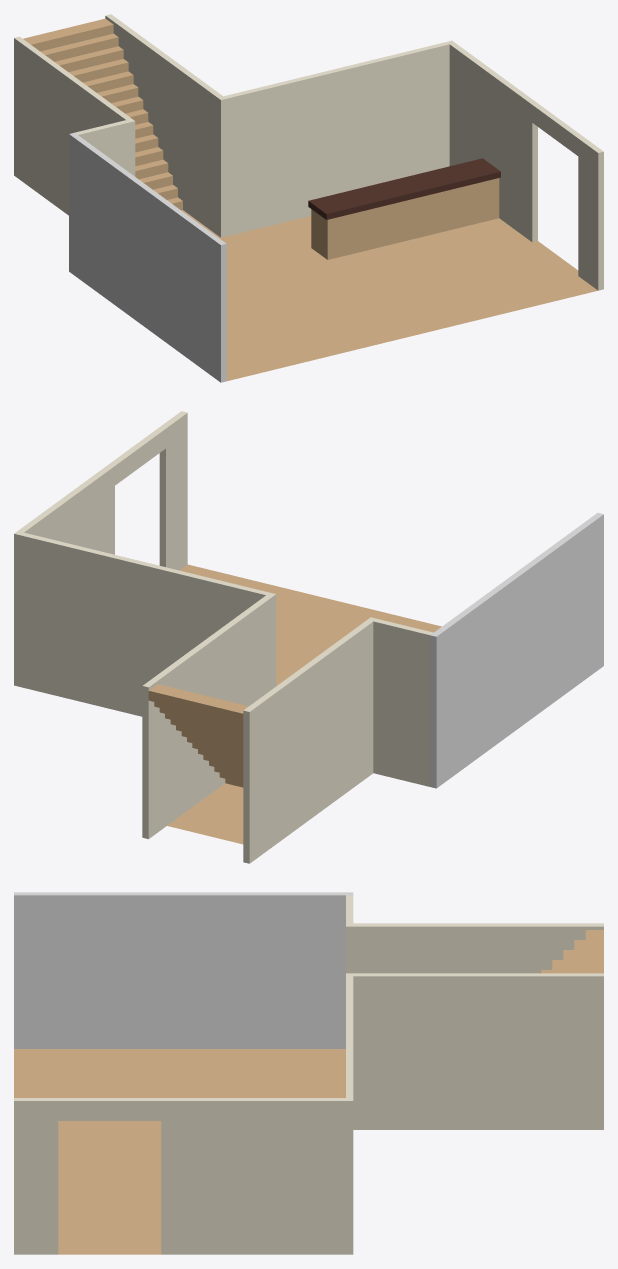
The model's file is reception.glb.
The picture shows the model from 3 angles, top to bottom: view 1: azimuth 30°, elevation 25°; view 2: azimuth 150°, elevation 25°; view 3: azimuth 270°, elevation 25°; orthographic projection. The views are drawn at different scales.
Parts seen in each view (by area): view 1: Plane-col, Cube.001-col, Cube.002-col, Cube.003-col, Cube.006-col, Cube.007-col, Cube-col.001, Cube.0015-col, Cube.004-col, Cube-col, step.014, Cube.005-col (+5 smaller); view 2: Cube.001-col, Cube.002-col, Cube.007-col, Cube.006-col, Cube-col, Plane-col, Cube.003-col, Cube.004-col, Plane.001-col, step.014, Cube.005-col; view 3: Cube.002-col, Cube.006-col, Cube.003-col, Plane-col, Cube.007-col, Cube.004-col, Cube.005-col, Cube.001-col, step.014, Cube-col.
Boxes of the visible parts, x1,y1,x2,y2 form: Plane-col: (219, 216, 597, 381); Cube.001-col: (217, 42, 449, 237); Cube.002-col: (69, 132, 226, 382); Cube.003-col: (447, 40, 537, 242); Cube.006-col: (105, 14, 222, 234); Cube.007-col: (14, 36, 131, 215); Cube-col.001: (311, 178, 499, 259); Cube.0015-col: (308, 158, 500, 219); Cube.004-col: (578, 137, 603, 290); Cube-col: (75, 118, 135, 176); step.014: (23, 18, 113, 51); Cube.005-col: (532, 103, 583, 155); Cube.001-col: (20, 532, 276, 716); Cube.002-col: (430, 513, 603, 788); Cube.007-col: (243, 620, 373, 863); Cube.006-col: (142, 595, 272, 839); Cube-col: (367, 617, 433, 786); Plane-col: (180, 564, 441, 685); Cube.003-col: (14, 464, 114, 686); Cube.004-col: (159, 411, 187, 570); Plane.001-col: (167, 783, 243, 844); step.014: (148, 684, 248, 723); Cube.005-col: (109, 427, 165, 485); Cube.002-col: (14, 892, 353, 1048); Cube.006-col: (353, 973, 603, 1129); Cube.003-col: (161, 1098, 353, 1254); Plane-col: (14, 1049, 345, 1254); Cube.007-col: (353, 923, 603, 973); Cube.004-col: (14, 1098, 58, 1254); Cube.005-col: (58, 1098, 161, 1120); Cube.001-col: (346, 973, 353, 1097); step.014: (585, 930, 603, 973); Cube-col: (346, 895, 353, 973).
Size of the model in its own units: 13.4 by 4.6 by 16.
